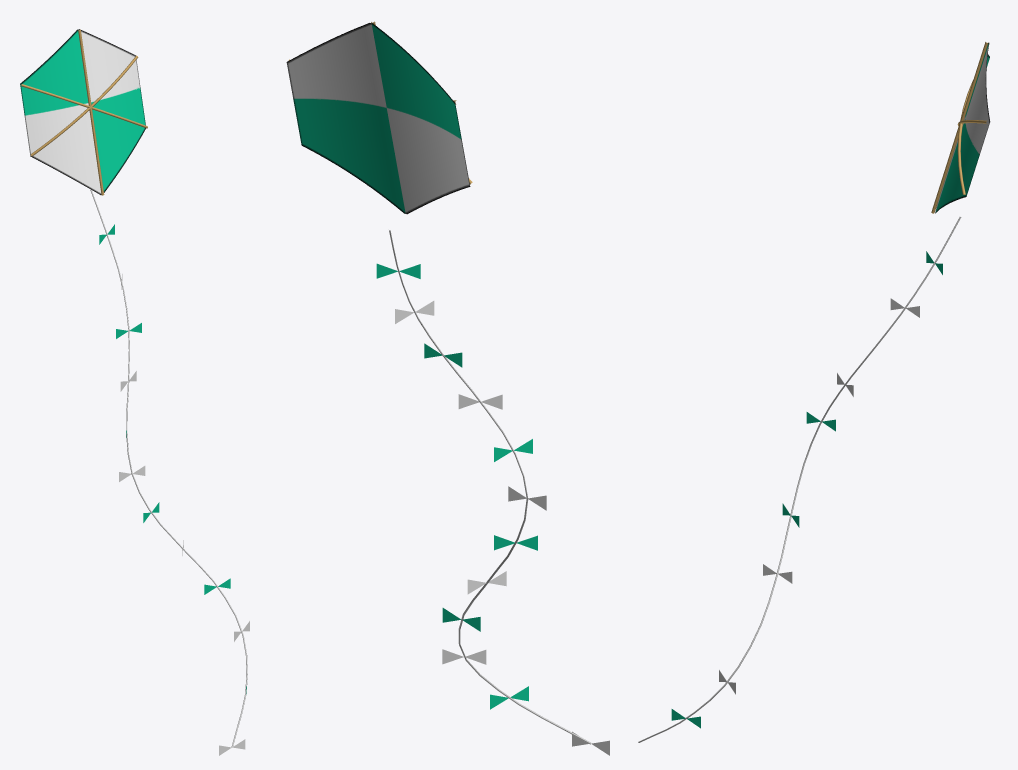
The model's file is raia-2.glb.
3 renders of one model, left to right at view 1: azimuth 30°, elevation 25°; view 2: azimuth 150°, elevation 25°; view 3: azimuth 270°, elevation 25°, orthographic. The views are drawn at different scales.
Visible parts, largest first — view 1: raia-2; view 2: raia-2; view 3: raia-2.
Boxes of the visible parts, x1,y1,x2,y2 form: raia-2: [20, 29, 249, 755]; raia-2: [286, 21, 609, 755]; raia-2: [638, 42, 990, 742].
Bounding box in the file's own units: 1.19 × 5.81 × 2.73.
Materials: 5 (1 with a texture image).
